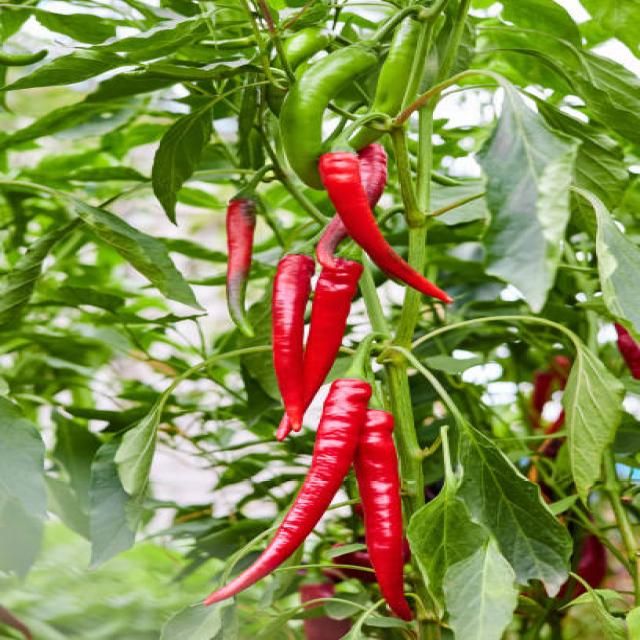Half-Ripe: (227, 198, 254, 327)
Ripe: (209, 380, 369, 599), (320, 144, 449, 301), (355, 411, 408, 619), (303, 238, 361, 408), (273, 255, 312, 437)
Unripe: (279, 45, 376, 189)
